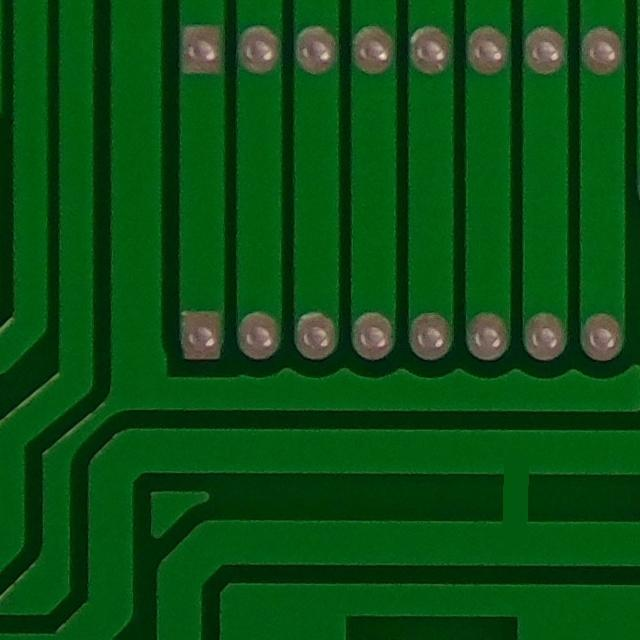short: (435, 404, 586, 577)
